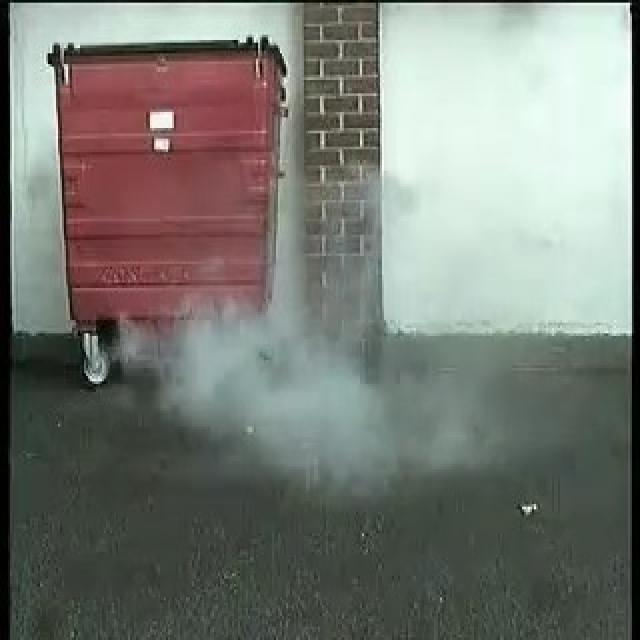smoke: (184, 314, 390, 469)
